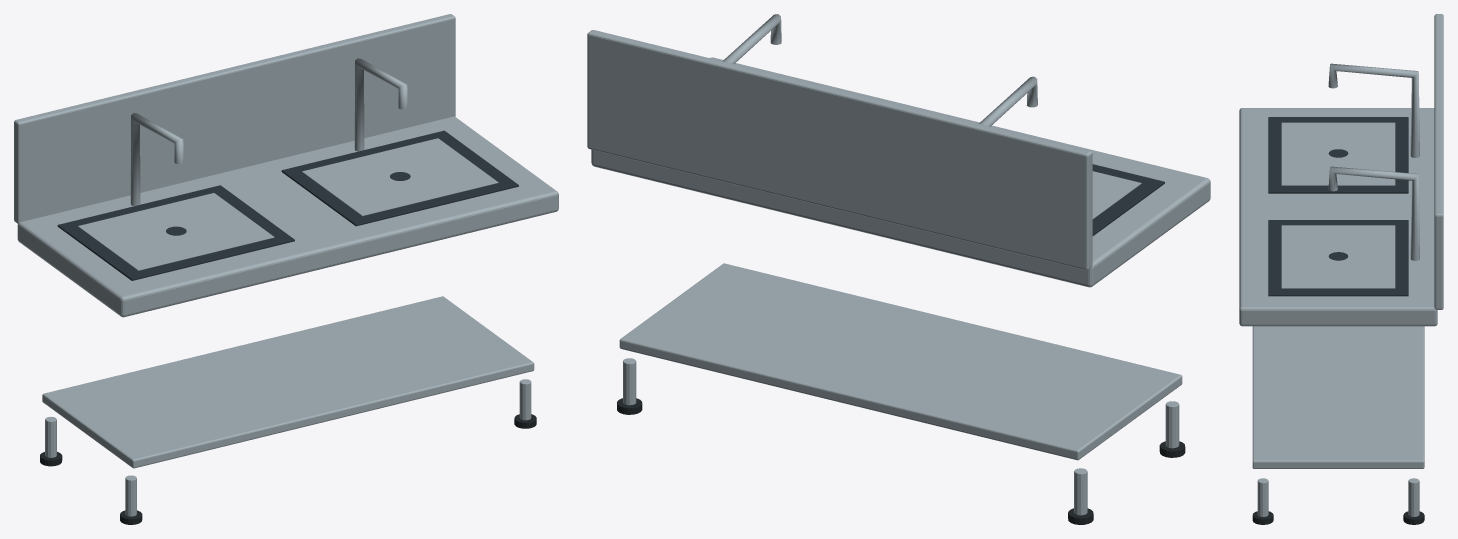
Rendered from RD_DoubleWashSink.fbx.
3 views of the same model, side by side, from view 1: azimuth 30°, elevation 25°; view 2: azimuth 150°, elevation 25°; view 3: azimuth 270°, elevation 25° (orthographic). The views are drawn at different scales.
Visible parts, largest first — view 1: RD_DoubleWashSink; view 2: RD_DoubleWashSink; view 3: RD_DoubleWashSink.
Part boxes in pixels (x1=…): RD_DoubleWashSink: x1=14, y1=14, x2=558, y2=524; RD_DoubleWashSink: x1=587, y1=14, x2=1210, y2=524; RD_DoubleWashSink: x1=1239, y1=14, x2=1443, y2=524.
Size of the model in its own units: 180 by 132 by 77.25.
